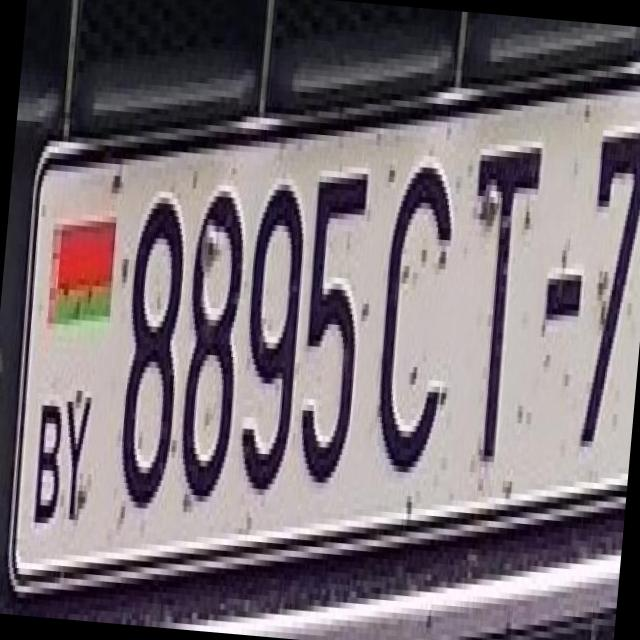5: (280, 140, 381, 490)
7: (553, 98, 640, 461)
8: (107, 166, 192, 510), (168, 171, 253, 504)
9: (232, 170, 316, 491)
B: (24, 387, 70, 518)
C: (360, 140, 468, 481)
T: (434, 124, 550, 470)
